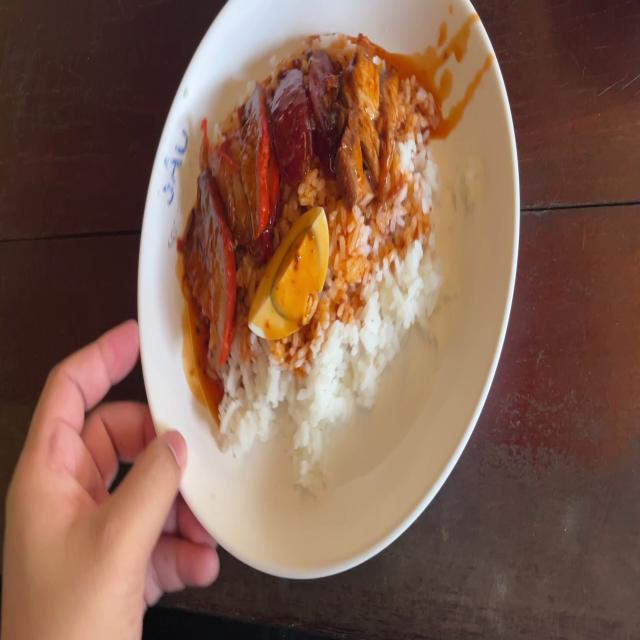01boiled_egg: (256, 210, 325, 342)
01chainese_sausage: (276, 60, 339, 176)
01crispy_pork: (345, 42, 397, 216)
01red_pork: (190, 93, 268, 374)
01red_pork_and_crispy_pork: (187, 51, 445, 443)
01rice: (331, 212, 437, 373), (225, 347, 355, 459), (401, 76, 437, 222)
